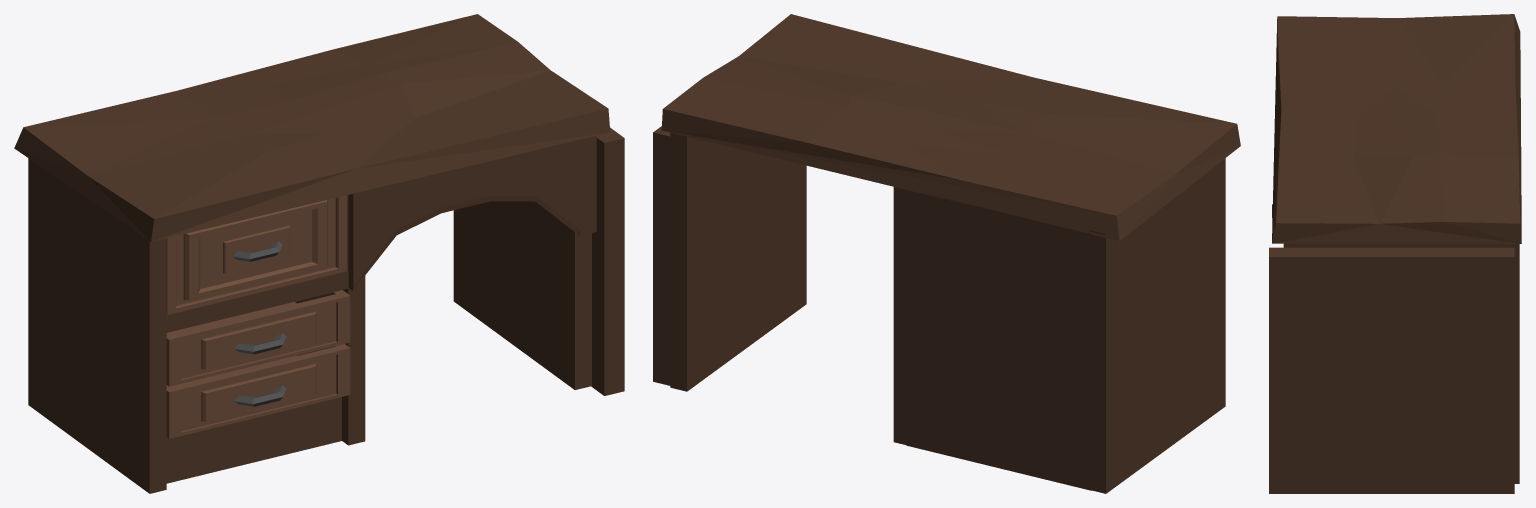
The model's file is Столешница.fbx.
3 views of the same model, side by side, from view 1: azimuth 30°, elevation 25°; view 2: azimuth 150°, elevation 25°; view 3: azimuth 270°, elevation 25° (orthographic). The views are drawn at different scales.
Parts seen in each view (by area): view 1: Cube.013, полка1, полка2, полка3; view 2: Cube.013; view 3: Cube.013.
Part boxes in pixels (box(x1,y1,x2,y2)): Cube.013: box(14, 14, 624, 493); полка1: box(166, 195, 347, 314); полка2: box(166, 290, 350, 386); полка3: box(166, 344, 350, 438); Cube.013: box(653, 14, 1240, 493); Cube.013: box(1269, 14, 1521, 493).
Bounding box in the file's own units: 420 × 243 × 206.
